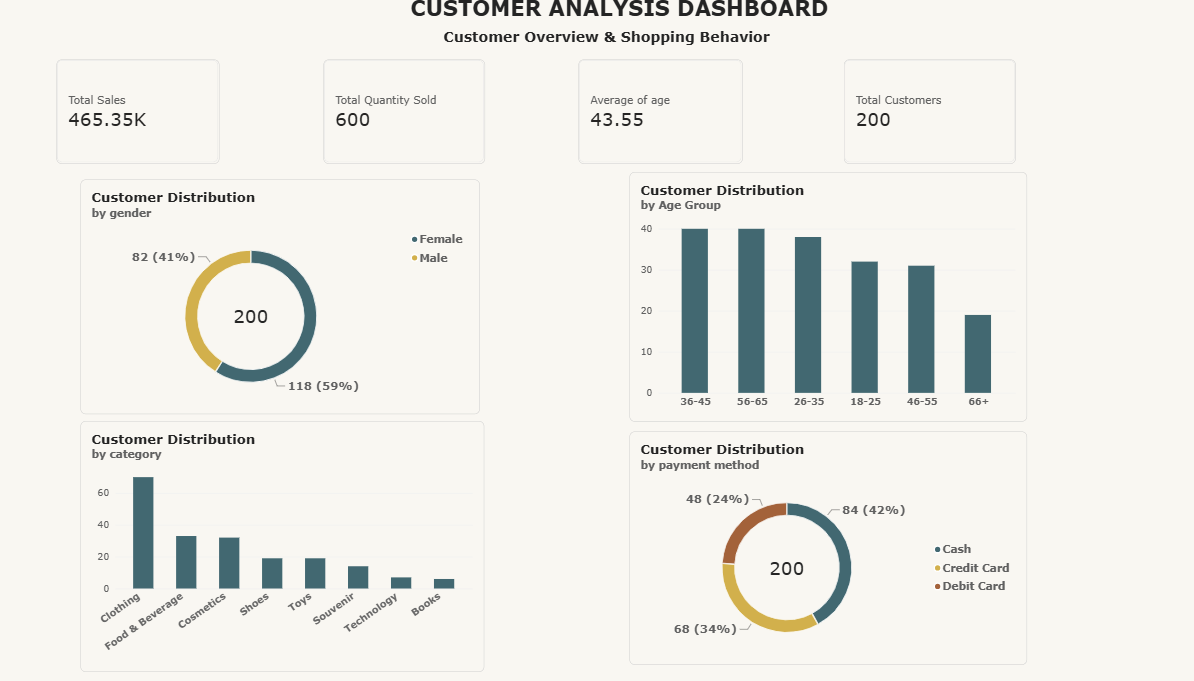

This screenshot's page, from the dashboard's own definition file:
{"tool":"powerbi","page":{"name":"Customer Overview","canvas":[1920,1080],"ordinal":0},"visuals":[{"type":"cardVisual","fields":{"Data":["customers_analysis (1).Total Customers"]},"box":[1335.6,128.9,260,157.8],"z":0},{"type":"cardVisual","fields":{"Data":["Sum(customers_analysis (1).quantity)"]},"box":[547.4,129.5,244.4,157.8],"z":1000},{"type":"cardVisual","fields":{"Data":["customers_analysis (1).Total Sales"]},"box":[142.2,128.9,246.7,157.8],"z":2000},{"type":"cardVisual","fields":{"Data":["Avg(customers_analysis (1).age)"]},"box":[933.3,128.9,248.9,157.8],"z":3000},{"type":"textbox","box":[680,31.1,684.4,68.9],"z":4000},{"type":"textbox","box":[728.9,82.2,511.1,46.7],"z":5000},{"type":"donutChart","title":"Customer Distribution","fields":{"Category":["customers_analysis (1).gender"],"Y":["CountNonNull(customers_analysis (1).customer_id)"]},"box":[180,311.1,604.4,355.6],"z":6000},{"type":"clusteredColumnChart","title":"Customer Distribution","fields":{"Category":["customers_analysis (1).Age Group"],"Y":["CountNonNull(customers_analysis (1).customer_id)"]},"box":[1011.1,300,602.2,377.8],"z":7000},{"type":"columnChart","title":"Customer Distribution","fields":{"Category":["customers_analysis (1).category"],"Y":["CountNonNull(customers_analysis (1).customer_id)"]},"box":[180,677.8,611.1,380],"z":8000},{"type":"donutChart","title":"Customer Distribution","fields":{"Y":["CountNonNull(customers_analysis (1).customer_id)"],"Category":["customers_analysis (1).payment_method"]},"box":[1011.1,693.3,602.2,353.3],"z":9000}]}

Visuals, with their boxes in screenshot pixels (x1, y1, x2, y2), scaled from the page's 1920x1080 canvas onto the 1194x681 screenshot:
cardVisual - customers_analysis (1).Total Customers: (x1=831, y1=81, x2=992, y2=181)
cardVisual - Sum(customers_analysis (1).quantity): (x1=340, y1=82, x2=492, y2=181)
cardVisual - customers_analysis (1).Total Sales: (x1=88, y1=81, x2=242, y2=181)
cardVisual - Avg(customers_analysis (1).age): (x1=580, y1=81, x2=735, y2=181)
textbox: (x1=423, y1=20, x2=848, y2=63)
textbox: (x1=453, y1=52, x2=771, y2=81)
"Customer Distribution" donutChart: (x1=112, y1=196, x2=488, y2=420)
"Customer Distribution" clusteredColumnChart: (x1=629, y1=189, x2=1003, y2=427)
"Customer Distribution" columnChart: (x1=112, y1=427, x2=492, y2=667)
"Customer Distribution" donutChart: (x1=629, y1=437, x2=1003, y2=660)
